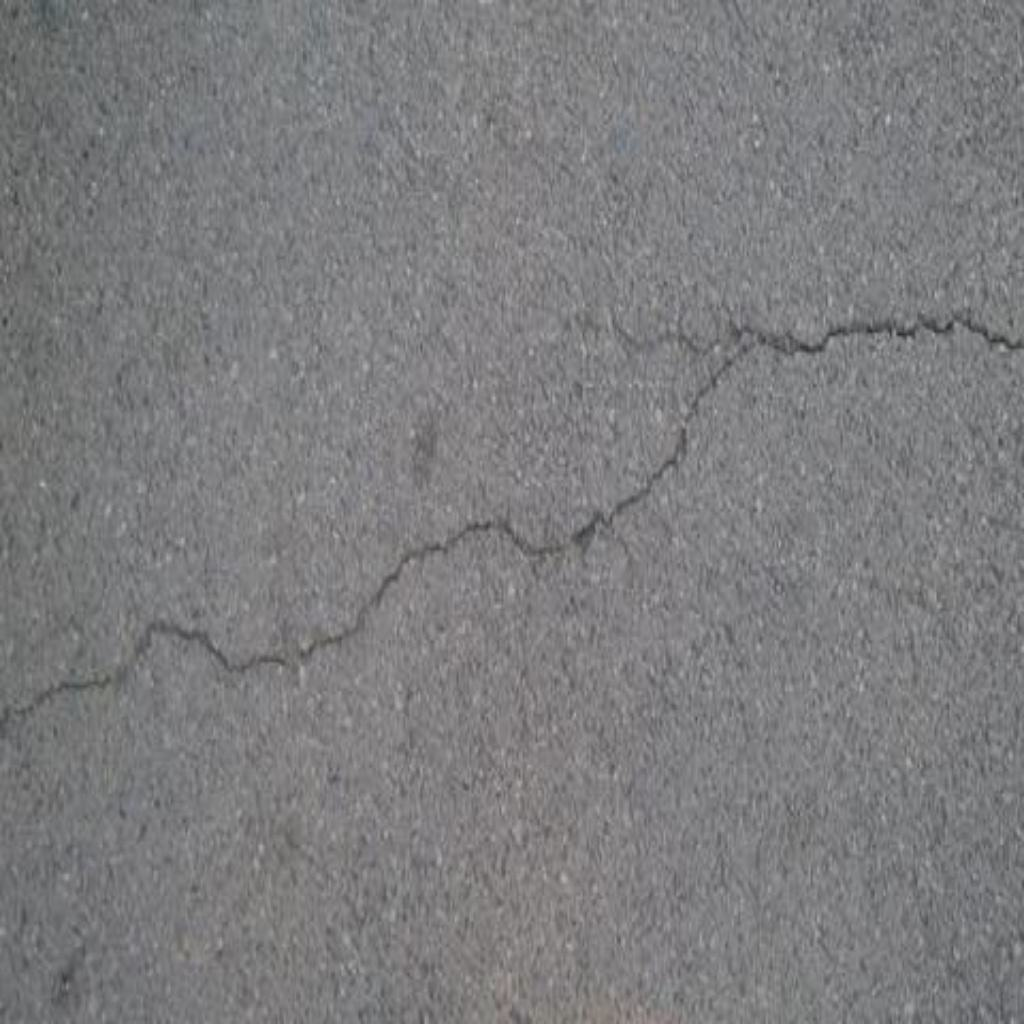Crack: (1, 312, 1024, 725)
